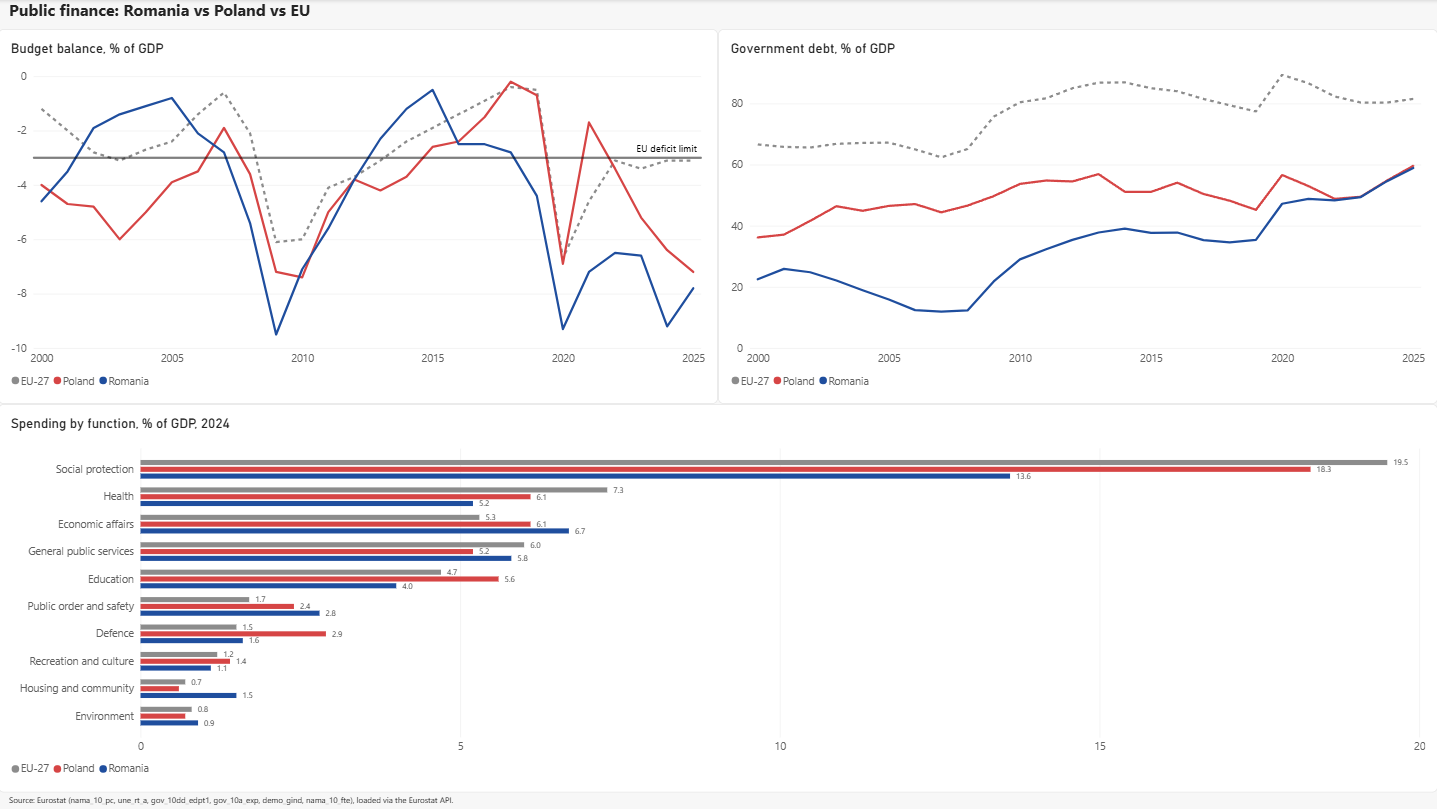

What the dashboard file says about the page in this screenshot:
{"tool":"powerbi","page":{"name":"Public finance","canvas":[1920,1080],"ordinal":2},"visuals":[{"type":"lineChart","title":"Budget balance, % of GDP","fields":{"Category":["DimYear.Year"],"Series":["DimCountry.Country"],"Y":["FactFinance.Budget Balance"]},"box":[0,39.4,960,500.4],"z":0},{"type":"lineChart","title":"Government debt, % of GDP","fields":{"Category":["DimYear.Year"],"Series":["DimCountry.Country"],"Y":["FactFinance.Government Debt"]},"box":[960,39.4,960,500.4],"z":1000},{"type":"clusteredBarChart","title":"Spending by function, % of GDP, 2024","fields":{"Category":["DimFunction.Function"],"Series":["DimCountry.Country"],"Y":["FactSpending.Spending"]},"box":[0,539.8,1920,517.9],"z":2000},{"type":"textbox","box":[14.6,0,548.6,39.4],"z":3000},{"type":"textbox","box":[14.6,1057.8,1905.4,21.9],"z":4000}]}

Visuals, with their boxes in screenshot pixels (x1, y1, x2, y2), scaled from the page's 1920x1080 canvas onto the 1437x809 screenshot:
"Budget balance, % of GDP" lineChart: 0/30/718/404
"Government debt, % of GDP" lineChart: 718/30/1436/404
"Spending by function, % of GDP, 2024" clusteredBarChart: 0/404/1436/792
textbox: 11/0/422/30
textbox: 11/792/1436/808
